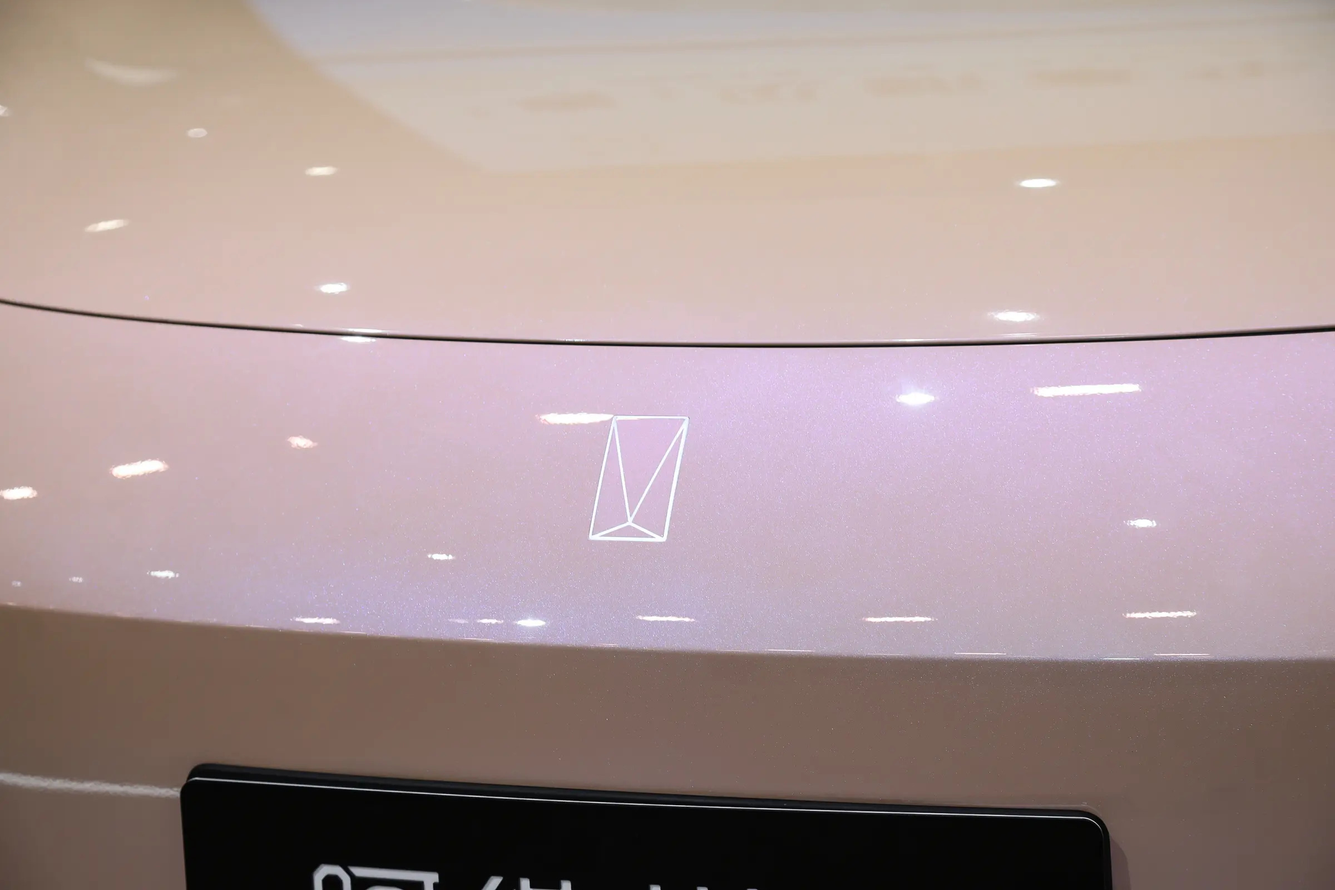AVATR: (589, 416, 689, 542)
